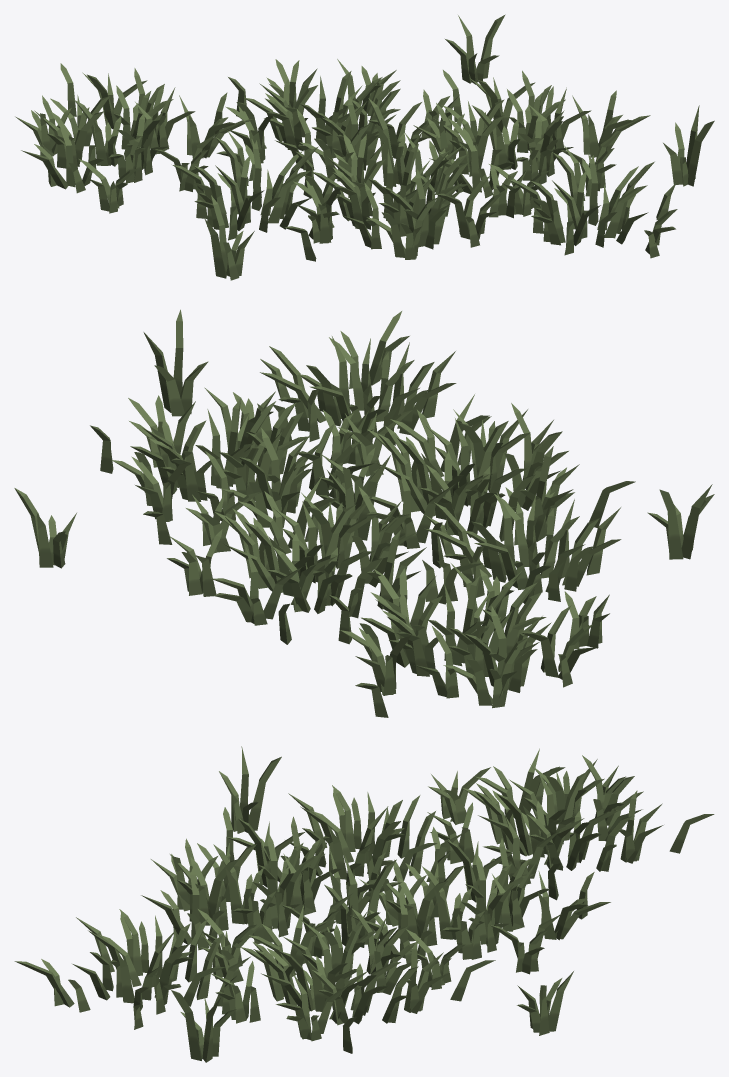
The model's file is Env_Grass_06.glb.
3 views of the same model, one above another, from view 1: azimuth 30°, elevation 25°; view 2: azimuth 150°, elevation 25°; view 3: azimuth 270°, elevation 25° (orthographic). The views are drawn at different scales.
Visible parts, largest first — view 1: SM_Gen_Env_Grass_06; view 2: SM_Gen_Env_Grass_06; view 3: SM_Gen_Env_Grass_06.
Part boxes in pixels (bbox=[...]): SM_Gen_Env_Grass_06: bbox=[15, 14, 714, 280]; SM_Gen_Env_Grass_06: bbox=[14, 309, 714, 717]; SM_Gen_Env_Grass_06: bbox=[14, 746, 714, 1062].
Bounding box in the file's own units: 6.74 × 0.9117 × 7.22.
Materials: 1 (1 with a texture image).
